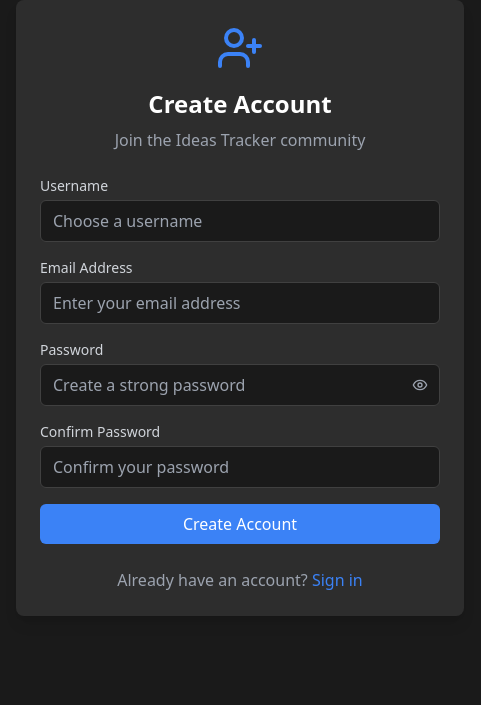
Test: RegisterForm › shows validation error for password mismatch
In the password field labelled "Password": (240, 385) [40,364,440,406], type "Password123"
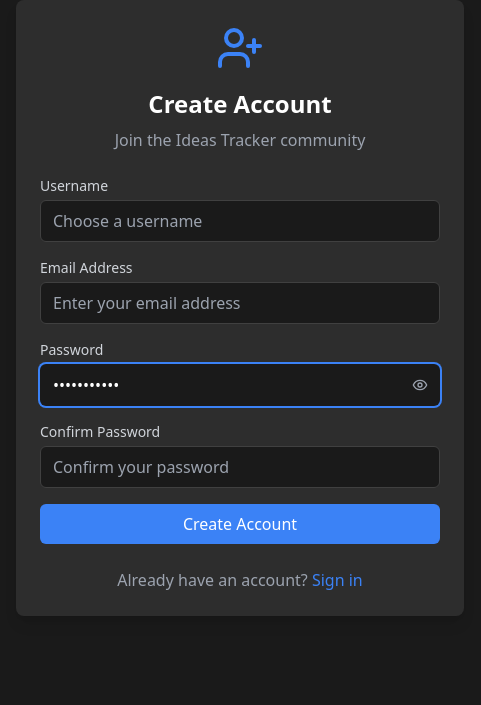
In the password field labelled "Confirm Password": (240, 467) [40,446,440,488], type "DifferentPassword123"
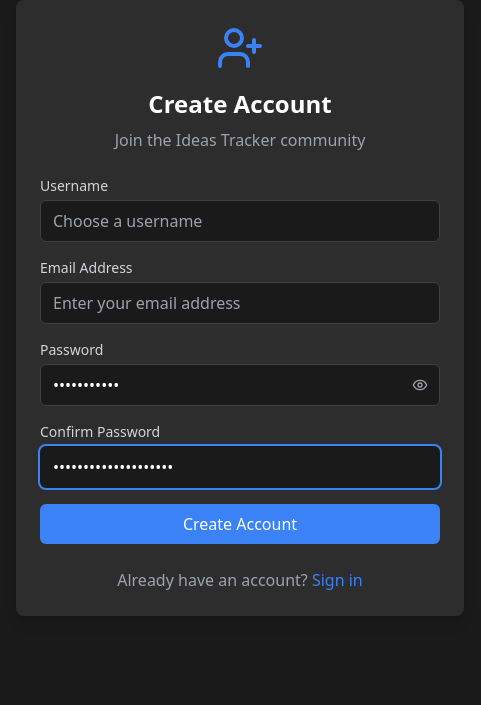
Click the button "Create Account": (240, 524) [40,504,440,544]
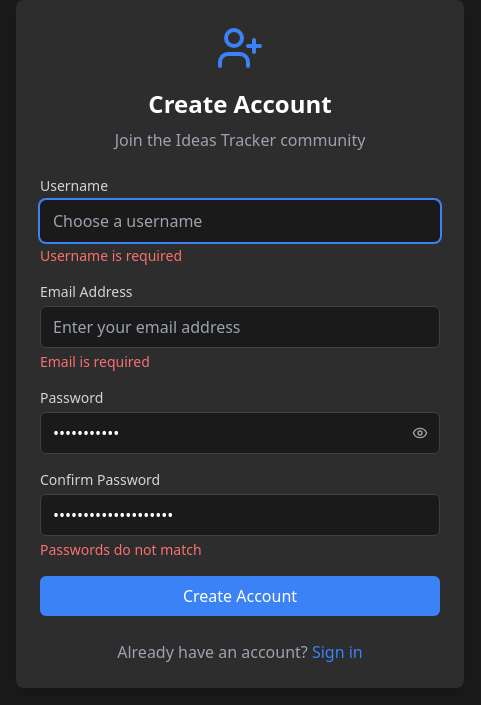
Expected: the text "Passwords do not match" is shown, [40,540,202,559]
